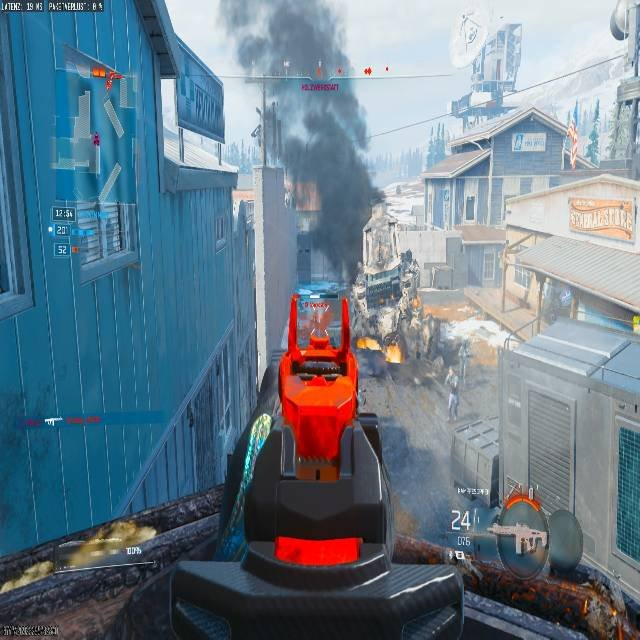head: (399, 249, 414, 268)
player: (445, 507, 477, 564), (396, 248, 420, 320)
